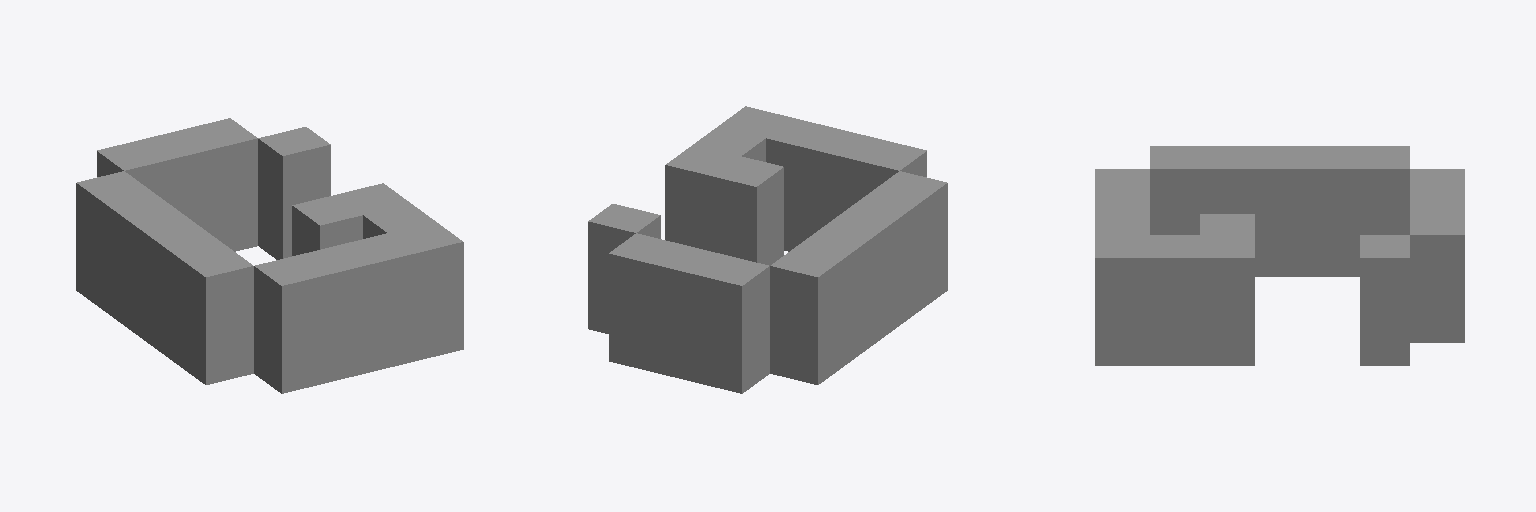
3 views of the same model, side by side, from view 1: azimuth 30°, elevation 25°; view 2: azimuth 150°, elevation 25°; view 3: azimuth 270°, elevation 25° (orthographic).
Visible parts, largest first — view 1: G_CUABC.007; view 2: G_CUABC.007; view 3: G_CUABC.007.
Boxes of the visible parts, box(x1,y1,x2,y2) form: G_CUABC.007: box(76, 118, 463, 393); G_CUABC.007: box(588, 106, 947, 393); G_CUABC.007: box(1095, 146, 1464, 365).
Bounding box in the file's own units: 0.5578 × 0.25 × 0.7778.